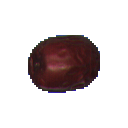gd: (13, 7, 120, 117)
